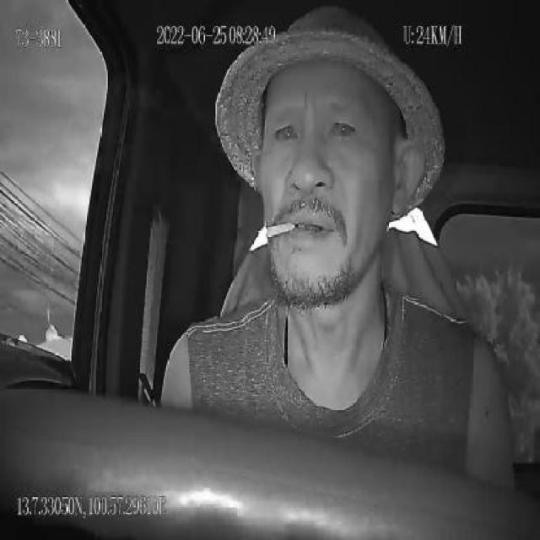smoking: (258, 218, 297, 244)
